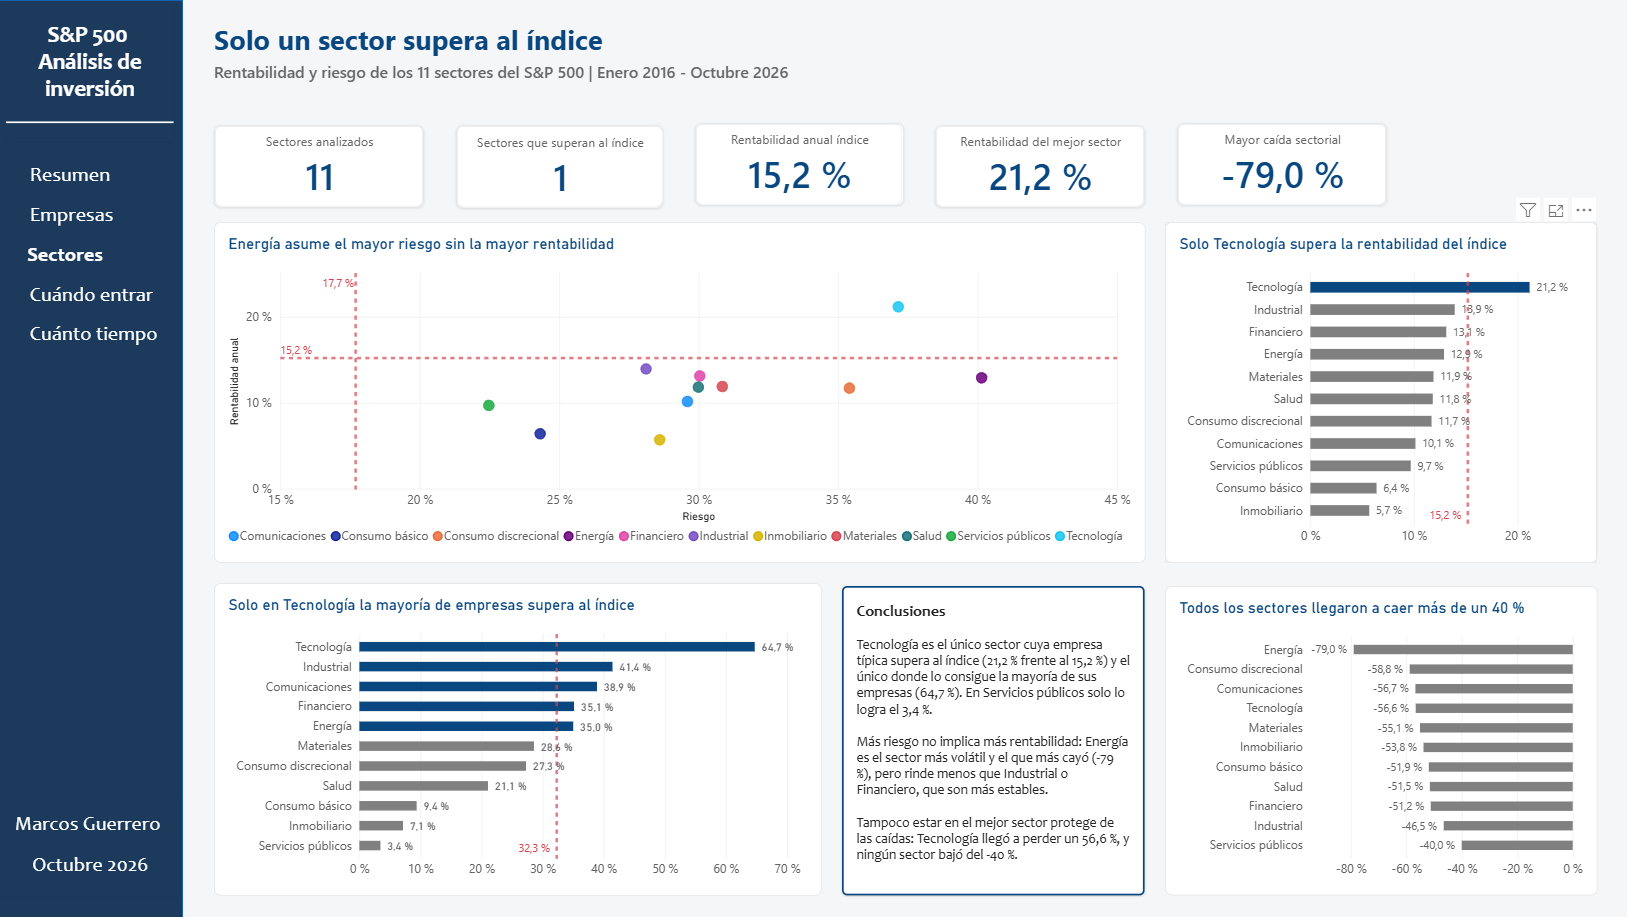

The dashboard page shown, as its layout file describes it:
{"tool":"powerbi","page":{"name":"Sectores","canvas":[1920,1080],"ordinal":2},"visuals":[{"type":"textbox","box":[256.7,23.7,1320,70],"z":0},{"type":"textbox","box":[256,72,1320,30.7],"z":1000},{"type":"cardVisual","fields":{"Data":["_Medidas.Mayor caída sectorial"]},"box":[1389.4,144.2,247,97.5],"z":2000},{"type":"cardVisual","fields":{"Data":["_Medidas.Sectores analizados"]},"box":[256.4,146.9,247,97.5],"z":3000},{"type":"cardVisual","fields":{"Data":["_Medidas.Sectores que superan al índice"]},"box":[540.7,147.1,244.2,98.5],"z":4000},{"type":"cardVisual","fields":{"Data":["_Medidas.Rentabilidad anual índice"]},"box":[822.2,144.4,245.6,97.1],"z":5000},{"type":"cardVisual","fields":{"Data":["_Medidas.Mejor sector"]},"box":[1105.1,146.9,247,97.5],"z":6000},{"type":"shape","box":[0,0,220,1080],"z":7000},{"type":"textbox","box":[12,9.3,197.3,157.3],"z":8000},{"type":"shape","box":[12,81.3,197.3,125.3],"z":9000},{"type":"textbox","box":[6.7,938.7,208,114.7],"z":10000},{"type":"textbox","box":[995.1,689.5,356.2,364.3],"z":11000},{"type":"scatterChart","title":"Energía asume el mayor riesgo sin la mayor rentabilidad","fields":{"Series":["metricas_sectores.sector"],"X":["metricas_sectores.volatilidad_anual"],"Y":["metricas_sectores.rentabilidad_anual"]},"box":[256.4,261.8,1095.6,400.7],"z":12000},{"type":"clusteredBarChart","title":"Solo Tecnología supera la rentabilidad del índice","fields":{"Category":["metricas_sectores.sector"],"Y":["Sum(metricas_sectores.rentabilidad_anual)"]},"box":[1374.9,261.8,508.7,400.7],"z":13000},{"type":"clusteredBarChart","title":"Solo en Tecnología la mayoría de empresas supera al índice","fields":{"Category":["metricas_sectores.sector"],"Y":["_Medidas.% que bate al índice"]},"box":[256.4,685.4,715.1,368.3],"z":14000},{"type":"clusteredBarChart","title":"Todos los sectores llegaron a caer más de un 40 %","fields":{"Category":["metricas_sectores.sector"],"Y":["Sum(metricas_sectores.peor_caida)"]},"box":[1374.9,689.5,508.7,364.3],"z":15000},{"type":"pageNavigator","box":[24.2,183.8,184.8,228.3],"z":16000}]}

Visuals, with their boxes on the page's 1920x1080 design canvas (x1, y1, x2, y2). These are canvas units, not pixel positions in the 1627x917 screenshot, which may show the page scaled, cropped or inside an application window:
textbox: locate(257, 24, 1577, 94)
textbox: locate(256, 72, 1576, 103)
cardVisual - _Medidas.Mayor caída sectorial: locate(1389, 144, 1636, 242)
cardVisual - _Medidas.Sectores analizados: locate(256, 147, 503, 244)
cardVisual - _Medidas.Sectores que superan al índice: locate(541, 147, 785, 246)
cardVisual - _Medidas.Rentabilidad anual índice: locate(822, 144, 1068, 242)
cardVisual - _Medidas.Mejor sector: locate(1105, 147, 1352, 244)
shape: locate(0, 0, 220, 1080)
textbox: locate(12, 9, 209, 167)
shape: locate(12, 81, 209, 207)
textbox: locate(7, 939, 215, 1053)
textbox: locate(995, 690, 1351, 1054)
"Energía asume el mayor riesgo sin la mayor rentabilidad" scatterChart: locate(256, 262, 1352, 662)
"Solo Tecnología supera la rentabilidad del índice" clusteredBarChart: locate(1375, 262, 1884, 662)
"Solo en Tecnología la mayoría de empresas supera al índice" clusteredBarChart: locate(256, 685, 972, 1054)
"Todos los sectores llegaron a caer más de un 40 %" clusteredBarChart: locate(1375, 690, 1884, 1054)
pageNavigator: locate(24, 184, 209, 412)
